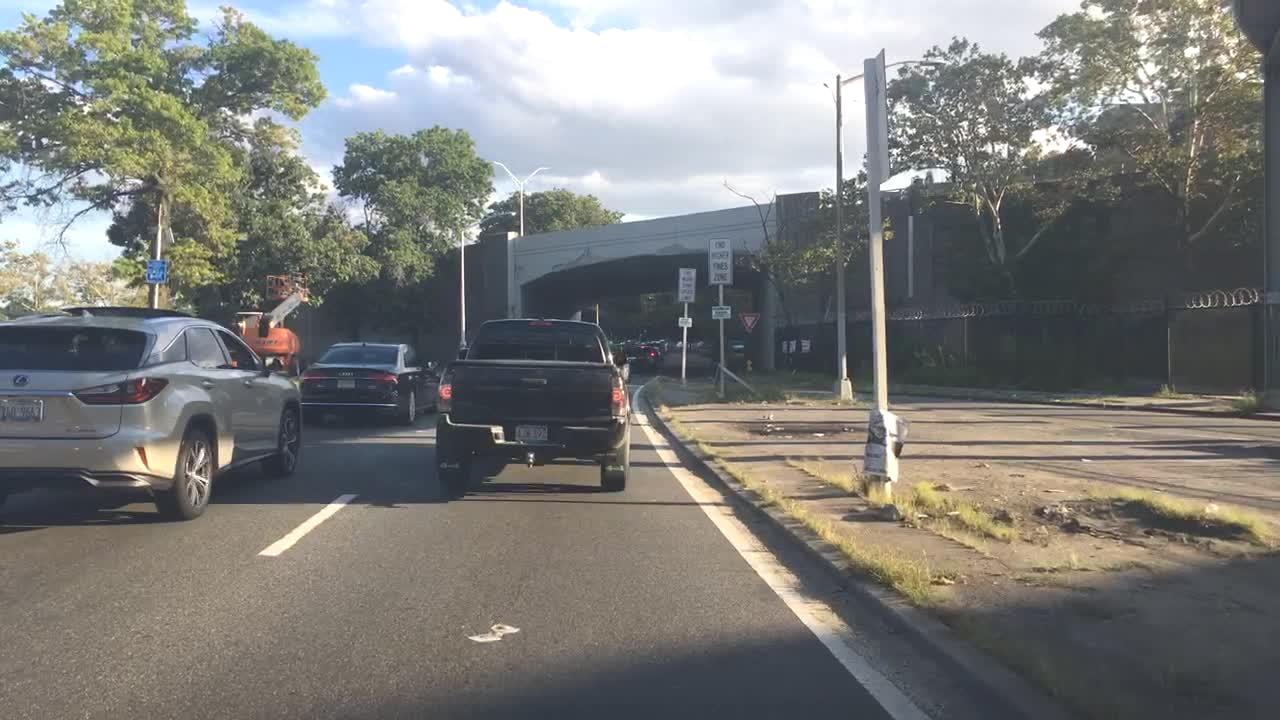Audi: (336, 369, 363, 380)
lexus: (12, 372, 33, 393)
